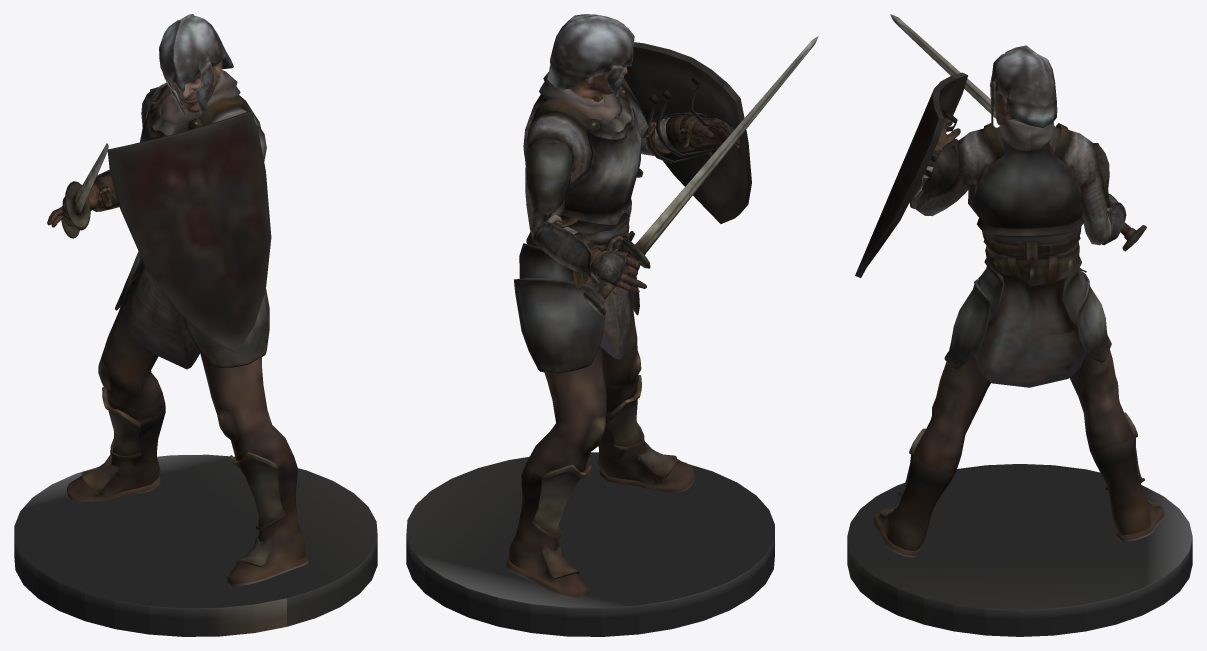
The picture shows the model from 3 angles, left to right: view 1: azimuth 30°, elevation 25°; view 2: azimuth 150°, elevation 25°; view 3: azimuth 270°, elevation 25°; orthographic projection. The views are drawn at different scales.
Visible parts, largest first — view 1: studio_Sword_Sareth; view 2: studio_Sword_Sareth; view 3: studio_Sword_Sareth.
Boxes of the visible parts, <box> form: studio_Sword_Sareth: <box>14,14,377,636</box>; studio_Sword_Sareth: <box>406,14,818,636</box>; studio_Sword_Sareth: <box>847,14,1192,636</box>.
Bounding box in the file's own units: 1.04 × 1.7 × 1.04.
1 material, 1 textured.
